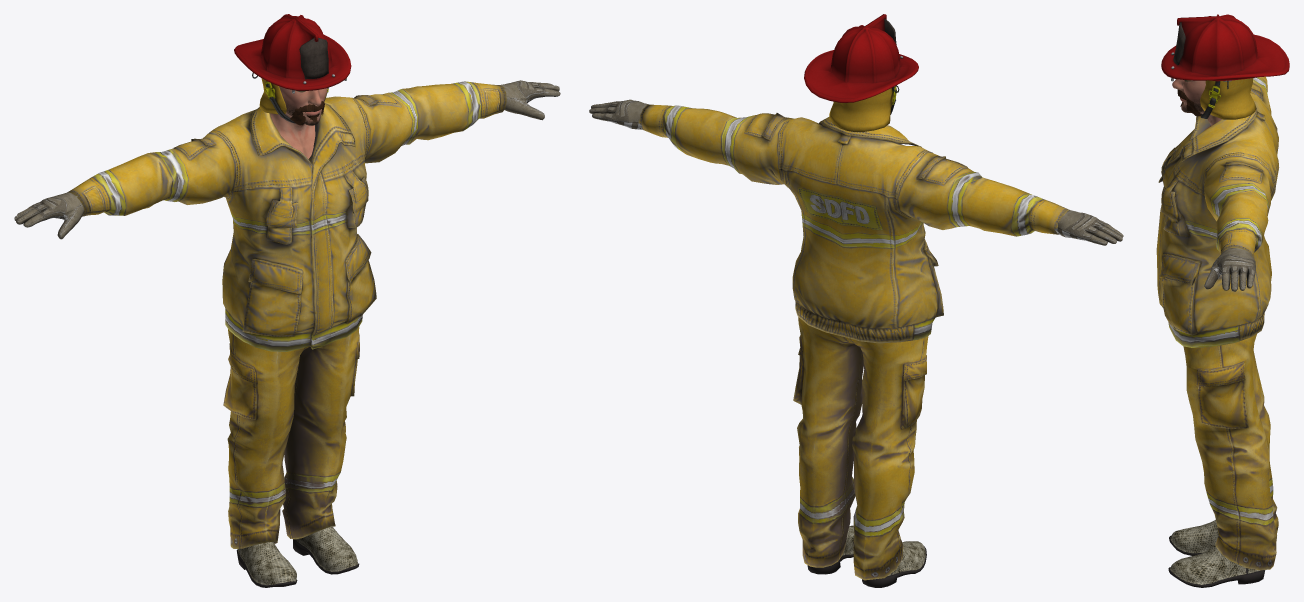
3 views of the same model, side by side, from view 1: azimuth 30°, elevation 25°; view 2: azimuth 150°, elevation 25°; view 3: azimuth 270°, elevation 25° (orthographic).
Visible parts, largest first — view 1: Tops, Bottoms, Hats, Shoes, Gloves, Body; view 2: Tops, Bottoms, Hats, Gloves, Shoes; view 3: Tops, Bottoms, Hats, Shoes, Gloves, Body, Moustaches.
Part boxes in pixels (x1,y1,x2,y2): Tops: (67, 81, 506, 351); Bottoms: (223, 327, 359, 548); Hats: (234, 14, 351, 123); Shoes: (236, 526, 359, 587); Gloves: (14, 80, 560, 239); Body: (270, 86, 327, 158); Tops: (638, 104, 1069, 343); Bottoms: (793, 317, 928, 580); Hats: (804, 14, 918, 131); Gloves: (589, 99, 1123, 245); Shoes: (807, 525, 926, 587); Tops: (1156, 76, 1279, 347); Bottoms: (1183, 334, 1278, 570); Hats: (1161, 14, 1289, 119); Shoes: (1168, 520, 1265, 587); Gloves: (1204, 247, 1255, 291); Body: (1172, 79, 1221, 130); Moustaches: (1177, 89, 1201, 116).
Size of the model in its own units: 194 by 188 by 42.83.
8 materials, 8 textured.
